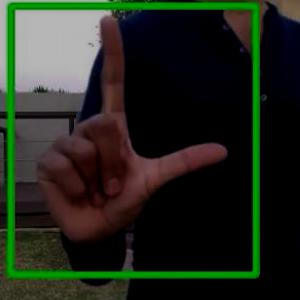land_hand: (27, 3, 238, 257)
